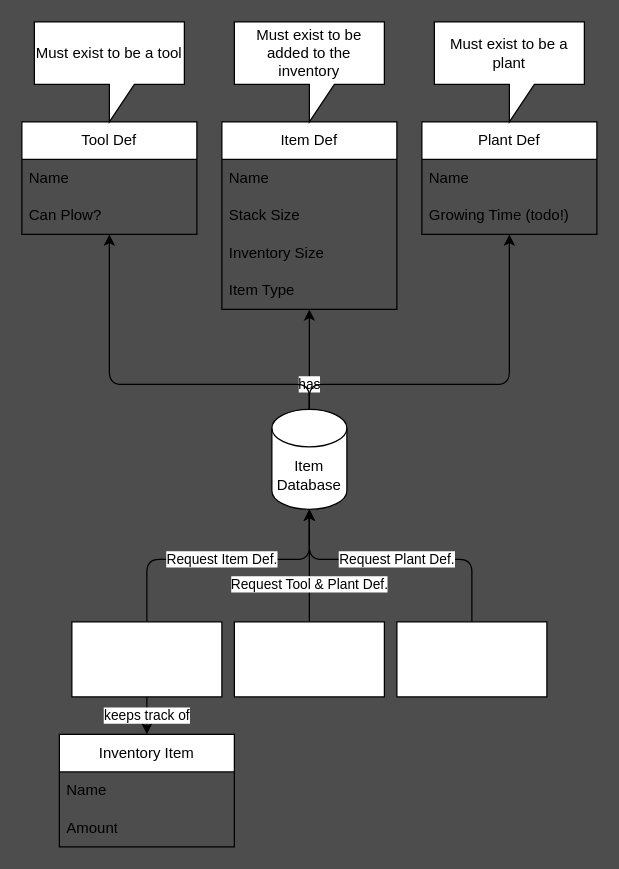
Image size: 619x869. Some labels were removed from this diagram. Each missing label, with the centre of its shape:
"Inventories (such as HotBar)" belongs at point 146,659.
"Planting System" belongs at point 471,659.
"Player Interactions" belongs at point 308,659.
